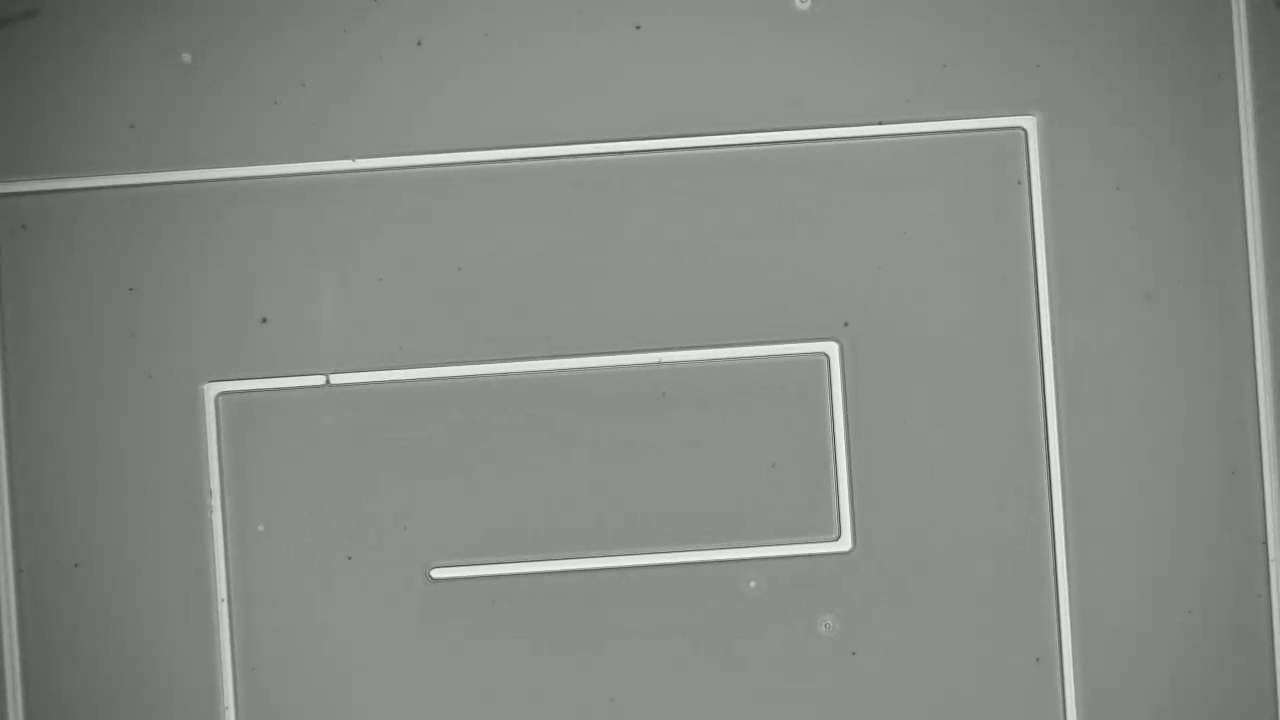stains_enbedded: (315, 369, 345, 399)
